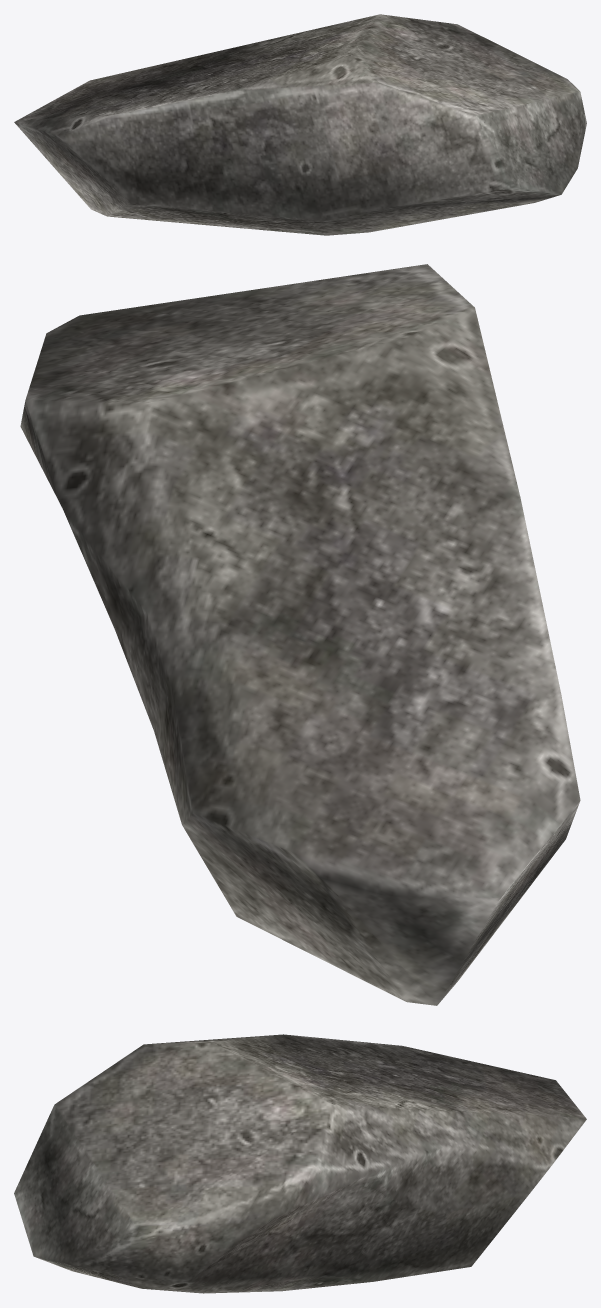
File: Rock3.glb
The picture shows the model from 3 angles, top to bottom: view 1: azimuth 30°, elevation 25°; view 2: azimuth 150°, elevation 25°; view 3: azimuth 270°, elevation 25°; orthographic projection. The views are drawn at different scales.
Parts seen in each view (by area): view 1: Rock3; view 2: Rock3; view 3: Rock3.
Boxes of the visible parts, box(x1,y1,x2,y2) form: Rock3: box(14, 14, 586, 235); Rock3: box(20, 264, 580, 1005); Rock3: box(14, 1034, 586, 1293).
Bounding box in the file's own units: 0.2709 × 0.1391 × 0.2919.
Materials: 1 (1 with a texture image).
